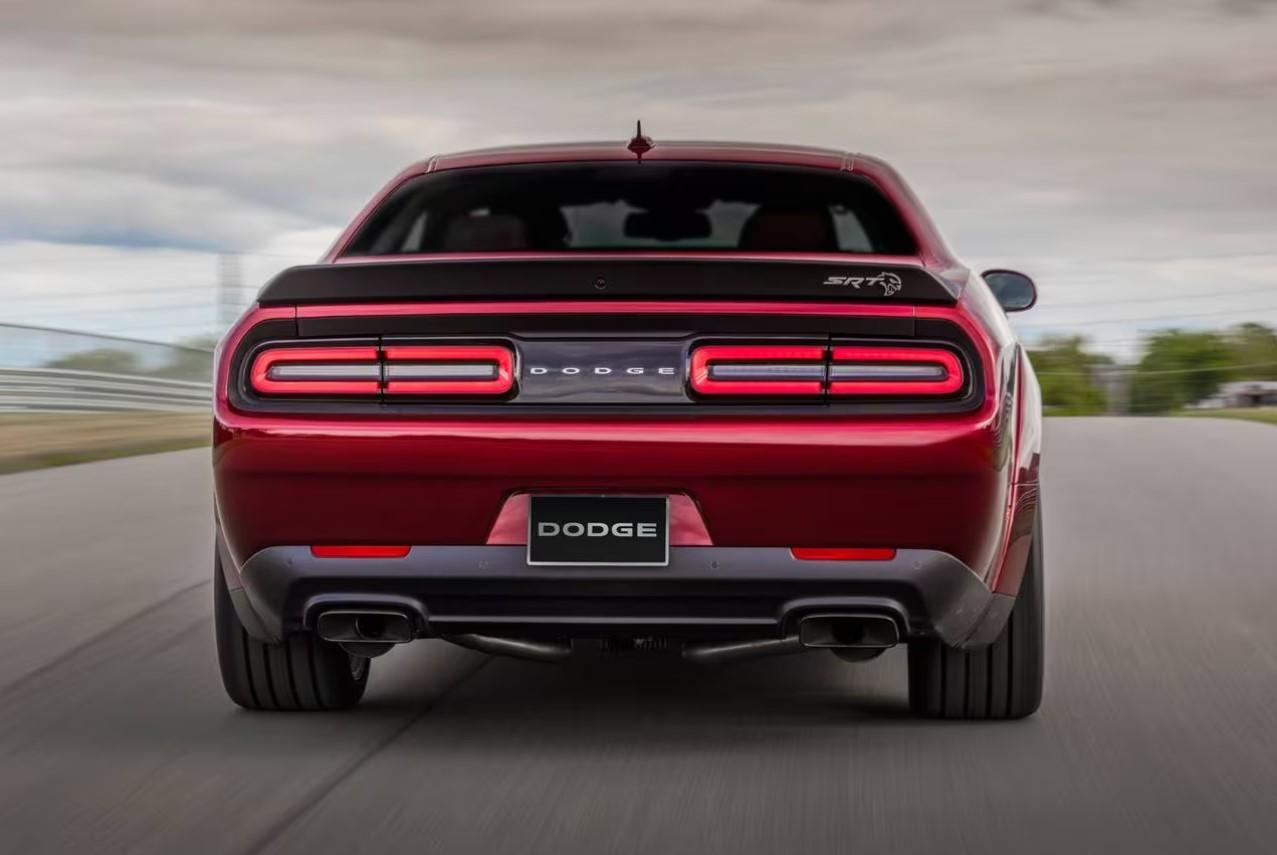dodge: (514, 345, 693, 395)
